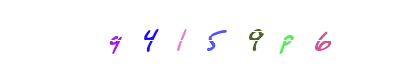4: (139, 0, 219, 80)
5: (167, 0, 247, 80)
6: (275, 0, 355, 80)
9: (215, 0, 295, 80)
L: (166, 0, 246, 80)
P: (246, 0, 326, 80)
Q: (75, 0, 155, 80)
